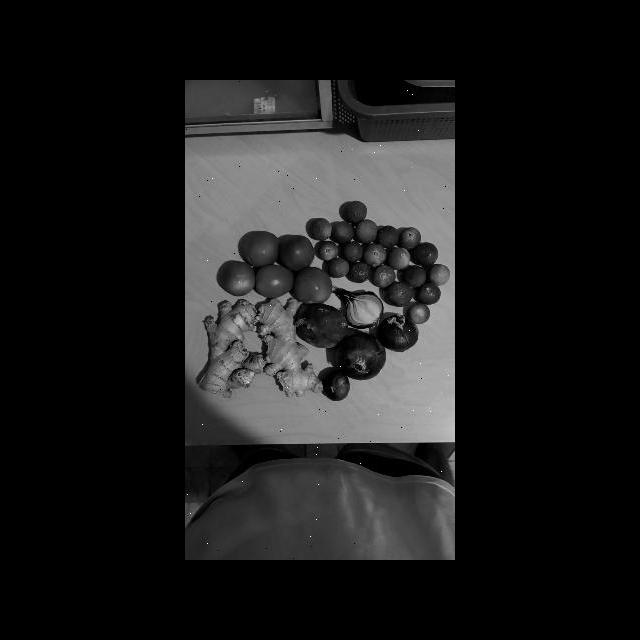ginger: (247, 290, 332, 402), (194, 291, 275, 403)
onion: (326, 277, 397, 333), (290, 292, 355, 352), (331, 325, 394, 385), (372, 308, 429, 355), (316, 359, 363, 404)
